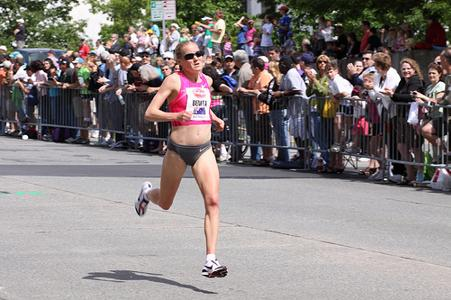person: (136, 41, 232, 280)
